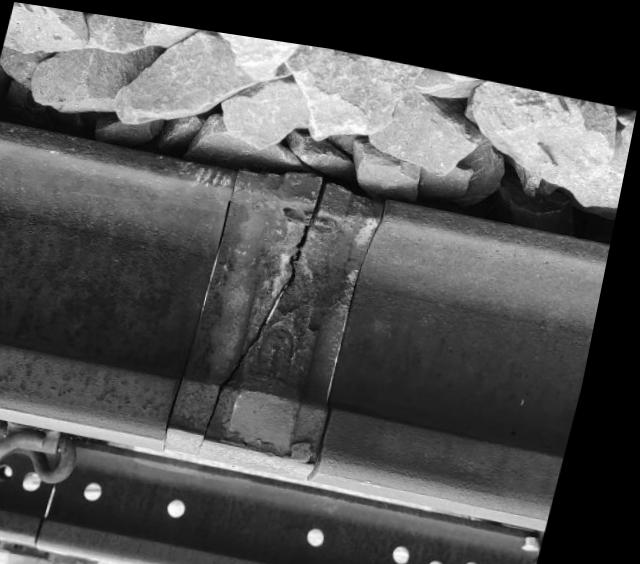person: (135, 134, 434, 494), (23, 471, 114, 557)
